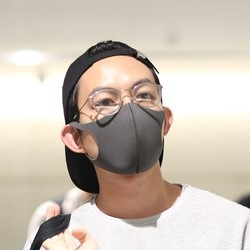mask: (64, 94, 175, 180)
